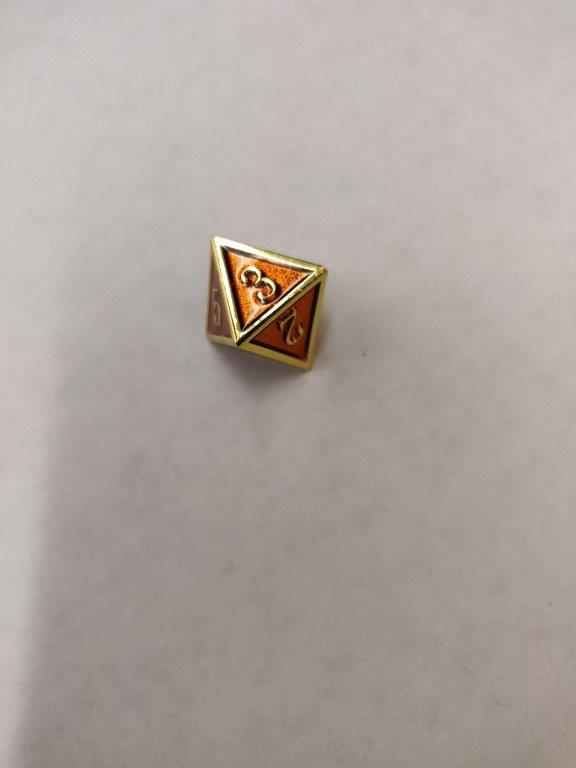d8-3: (201, 233, 328, 373)
